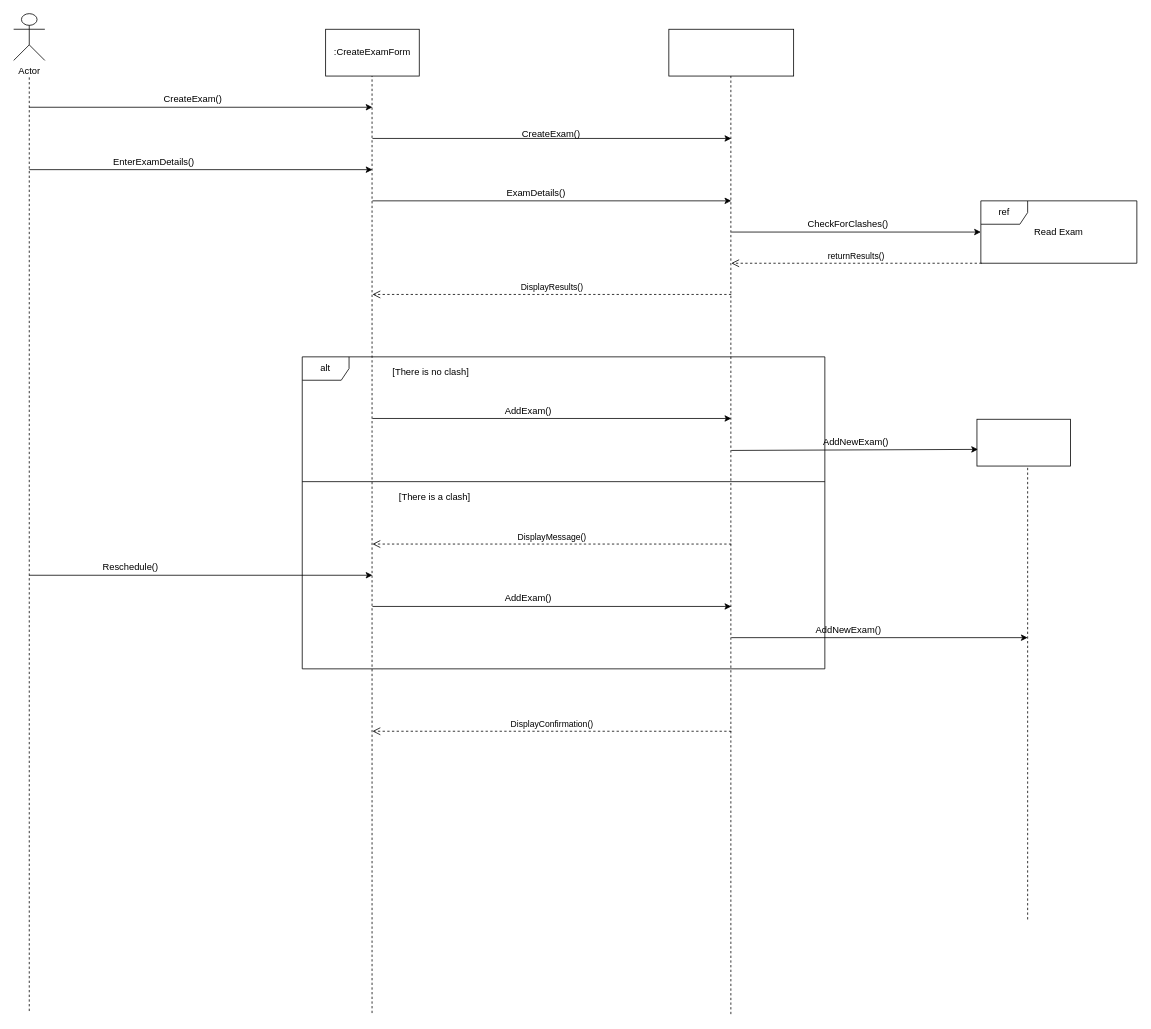
The diagram is 1151 pixels wide and 1029 high, and some of its shapes have lost their labels. Here are the shapes that lost their labels. From the top down, the centre of each, then its label:
At (x=731, y=52): "CreateExamHandler".
At (x=1023, y=442): ":New Exam".
